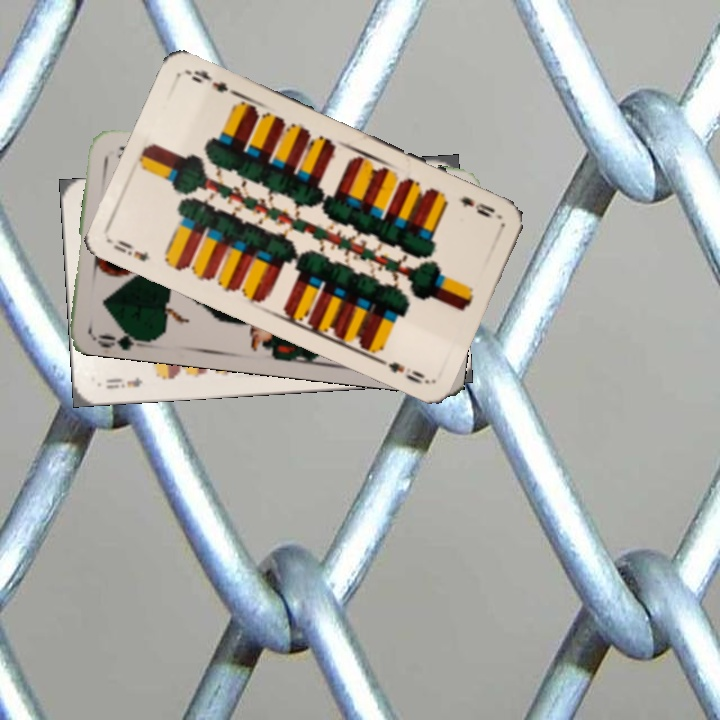E9: (455, 192, 498, 221), (109, 236, 153, 264), (102, 373, 145, 392)
GO: (91, 322, 150, 351)
